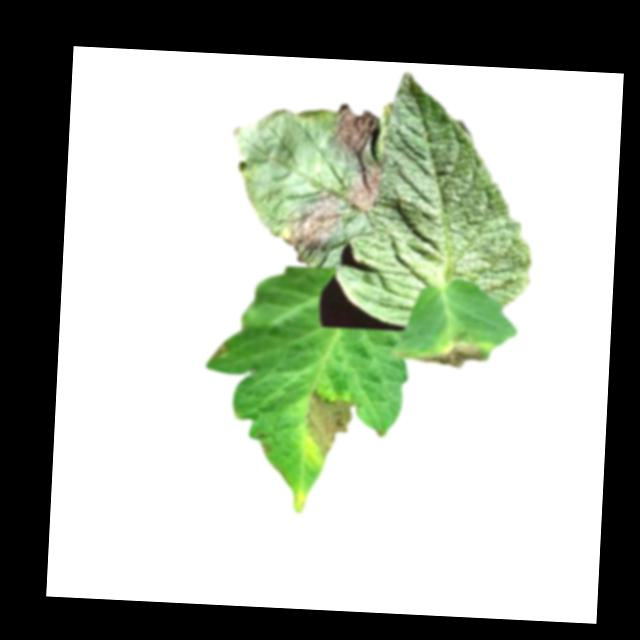Late_blight: (276, 187, 343, 266), (303, 384, 354, 458), (329, 104, 379, 161), (414, 339, 484, 371), (342, 161, 382, 213)
healthy: (332, 64, 541, 333)
